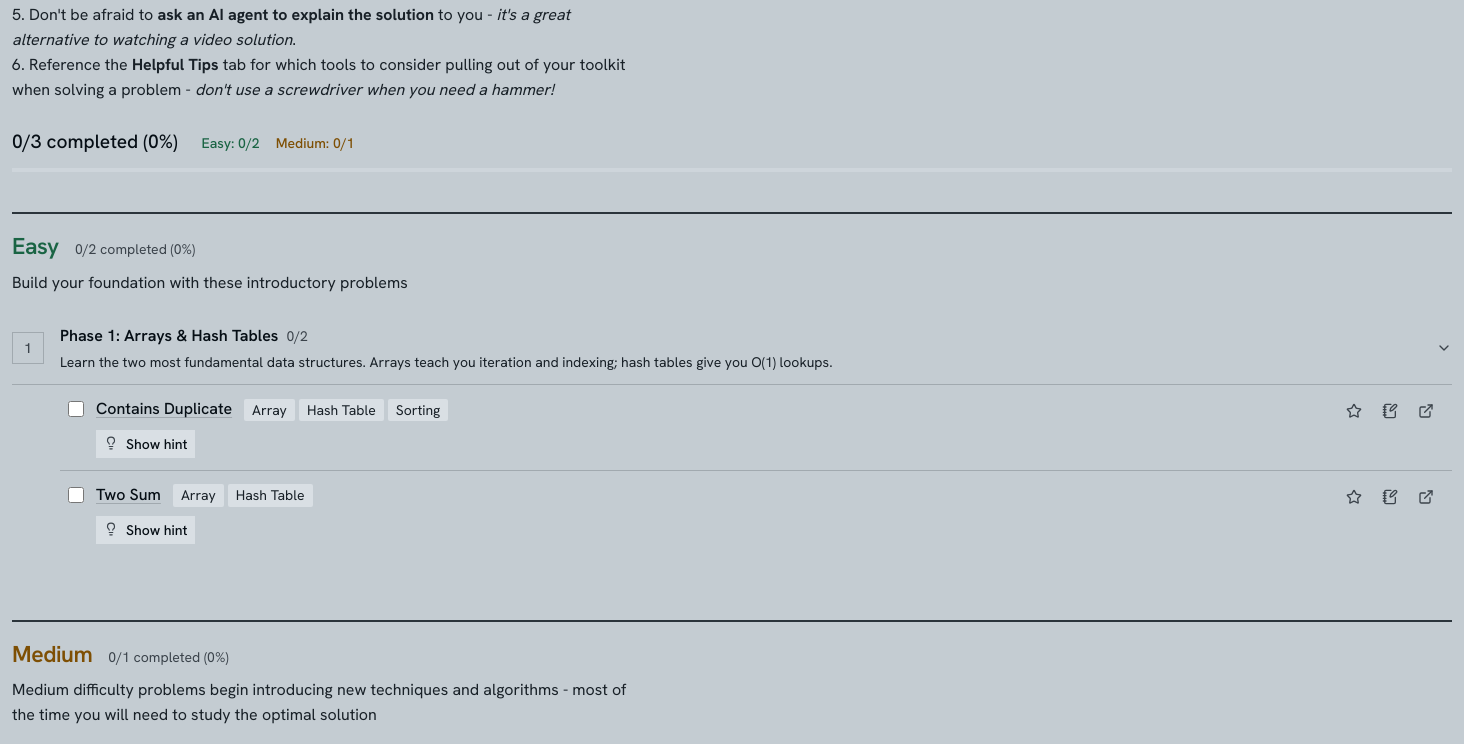
Test case: RoadmapView › toggles hint closed after opening
(page scrolled)
Click the button "Show hint" below "Contains Duplicate" at [146, 444], box 96,430 -> 196,458
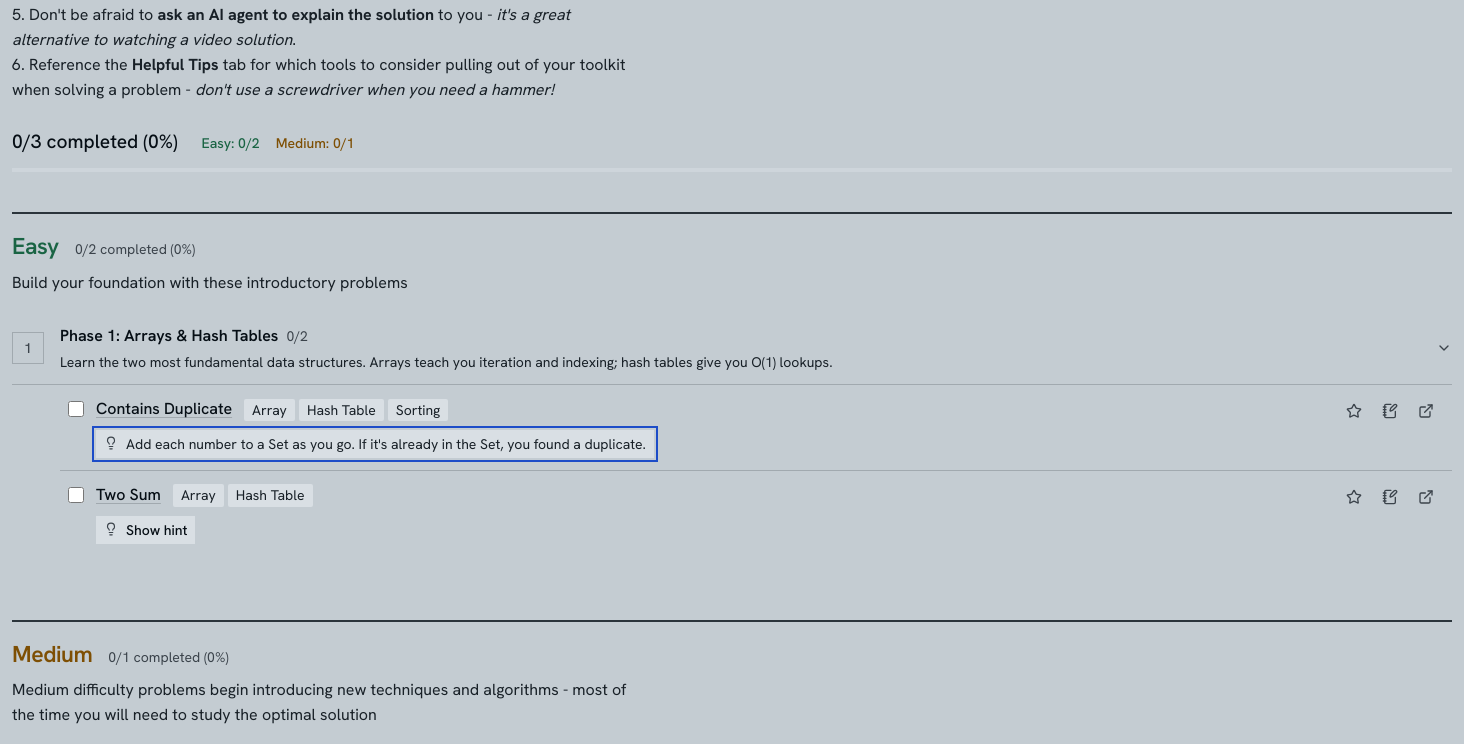
Check: the text "Add each number to a Set as you go. If it's already in the Set, you found a duplicate." is shown, box 126,435 -> 646,453
Click the hint area again to collapse
Click the button "Add each number to a Set as you go. If it's already in the Set, you found a duplicate." at [375, 444], box 96,430 -> 654,458
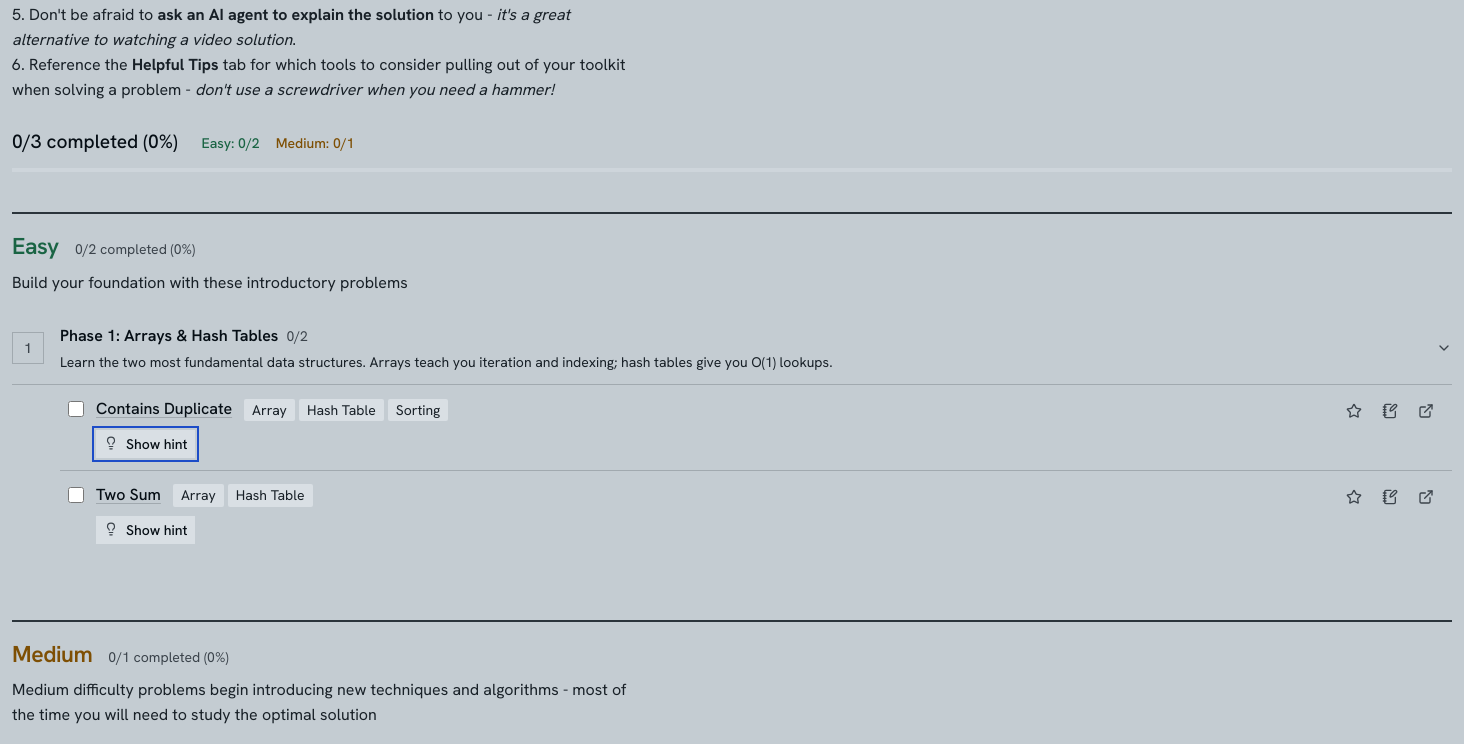
Check: the button "Add each number to a Set as you go. If it's already in the Set, you found a duplicate." is gone
